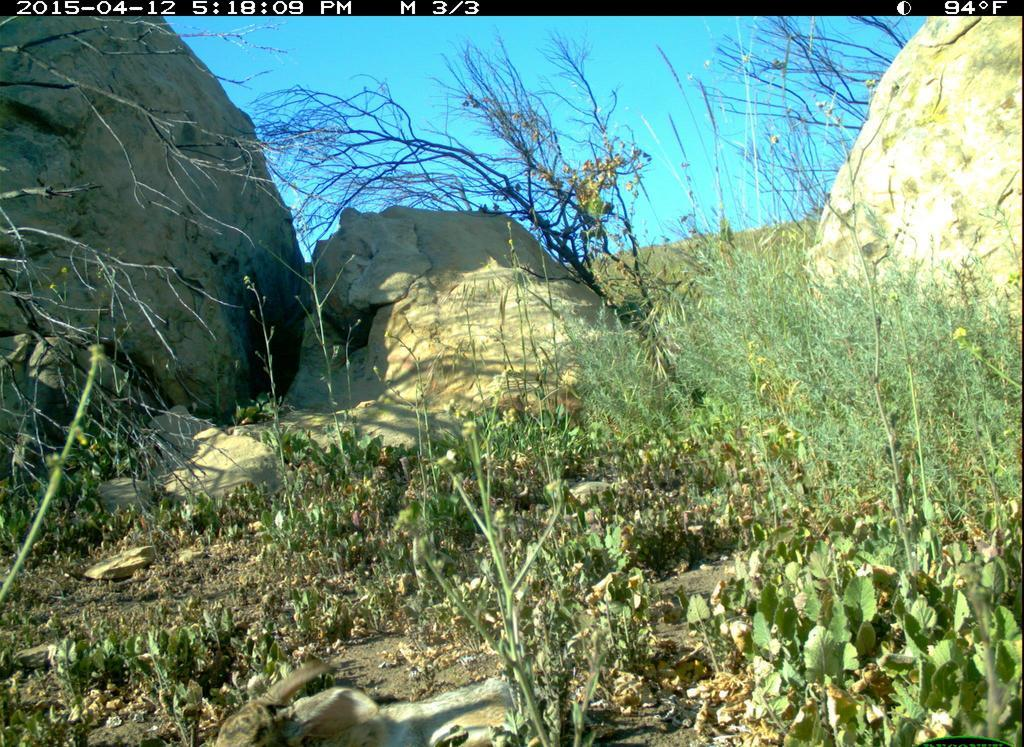rabbit: (209, 664, 518, 747)
